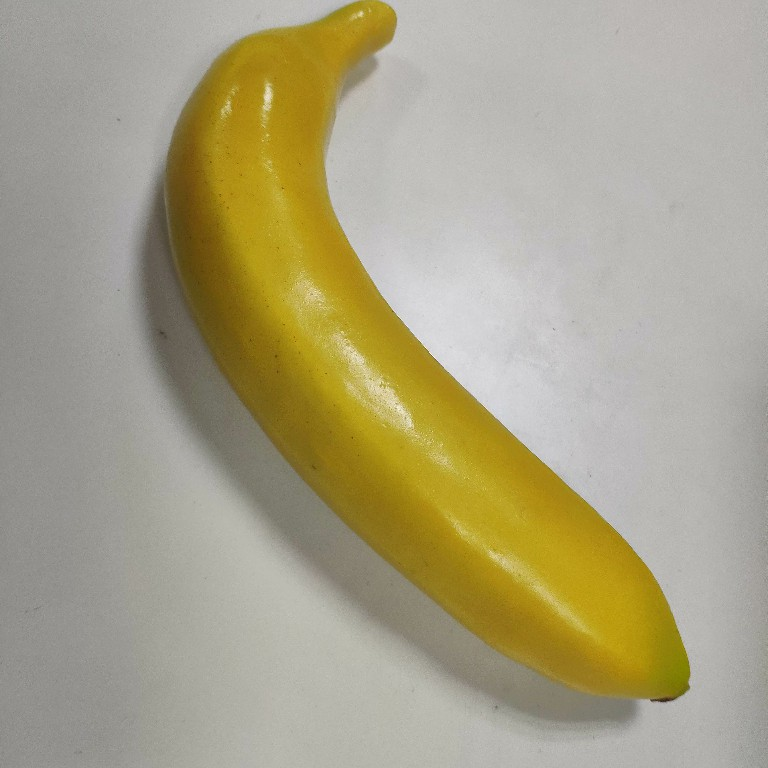fruit_banana: (158, 1, 698, 708)
